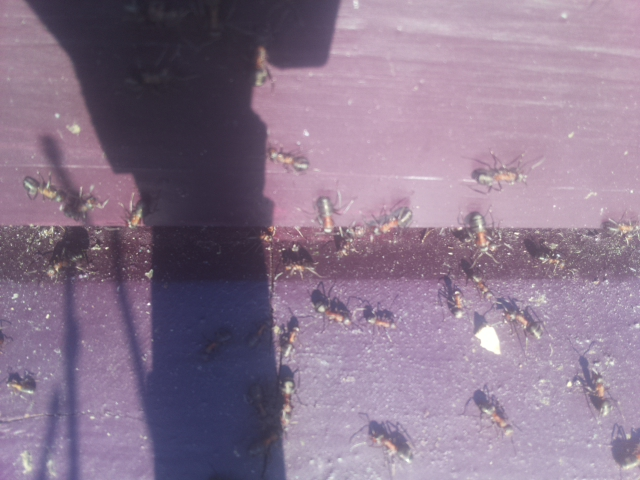ant: (468, 382, 519, 441), (459, 205, 507, 262), (303, 285, 357, 333), (360, 424, 418, 467), (492, 300, 546, 343), (16, 168, 69, 209), (369, 201, 420, 242), (309, 188, 347, 241), (465, 164, 536, 190), (606, 418, 640, 472), (274, 363, 301, 430), (258, 145, 317, 174), (584, 374, 616, 418), (440, 272, 468, 321), (198, 326, 233, 364), (250, 44, 276, 93), (469, 267, 495, 308), (360, 307, 402, 332), (280, 319, 303, 362), (602, 215, 640, 240), (123, 198, 147, 232)
